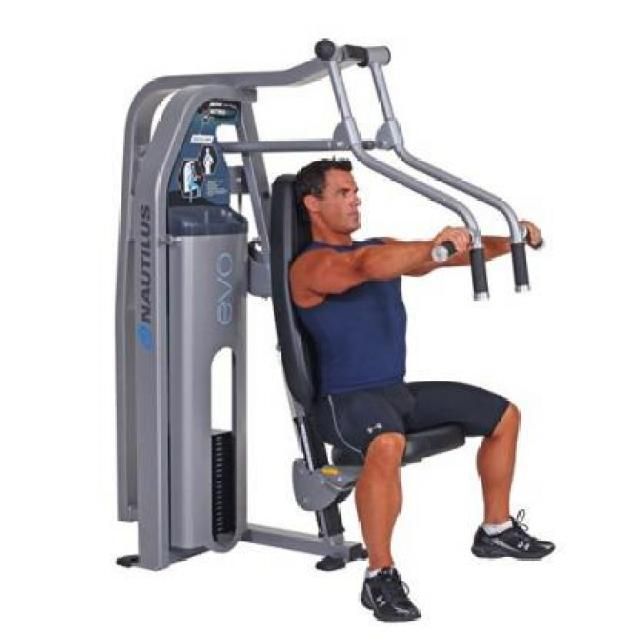Chest Press machine: (106, 32, 563, 628)
